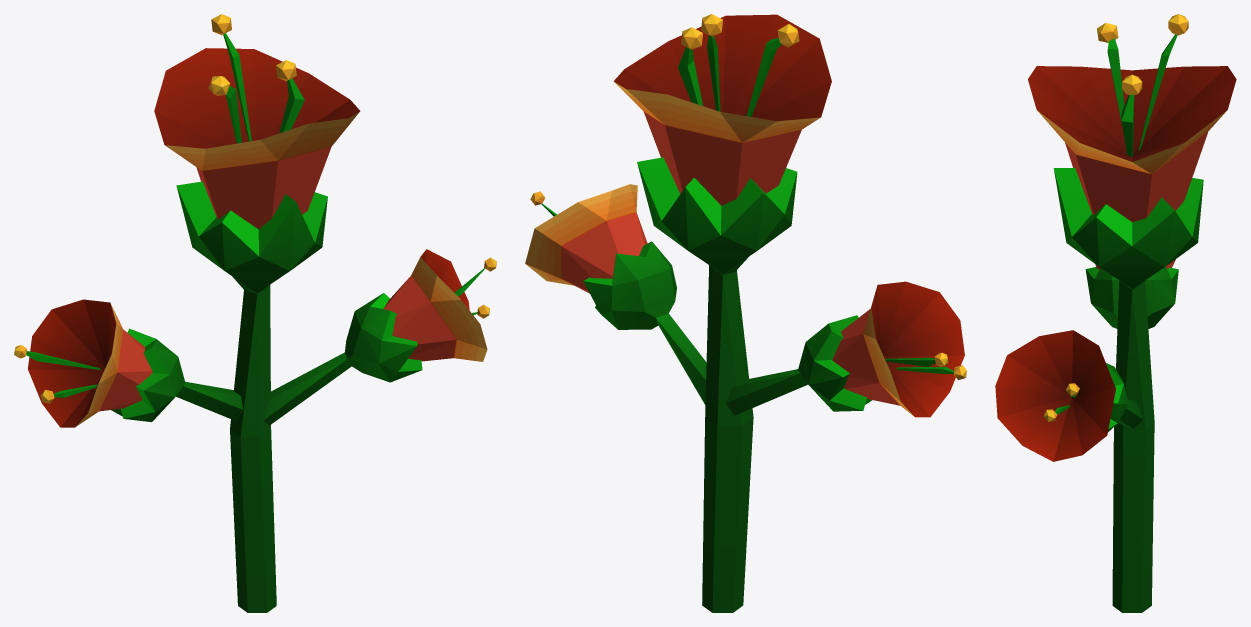
The model's file is egypt_env_flower_01.gltf.
3 views of the same model, side by side, from view 1: azimuth 30°, elevation 25°; view 2: azimuth 150°, elevation 25°; view 3: azimuth 270°, elevation 25° (orthographic). The views are drawn at different scales.
Visible parts, largest first — view 1: egypt_env_flower_01_glb; view 2: egypt_env_flower_01_glb; view 3: egypt_env_flower_01_glb.
Boxes of the visible parts, left/top/right/bottom form: egypt_env_flower_01_glb: left=14, top=14, right=496, bottom=612; egypt_env_flower_01_glb: left=525, top=14, right=966, bottom=612; egypt_env_flower_01_glb: left=995, top=14, right=1236, bottom=612.
Size of what is drawn, in the model's own units: 0.738 by 0.934 by 0.3489.
1 material, 1 textured.
